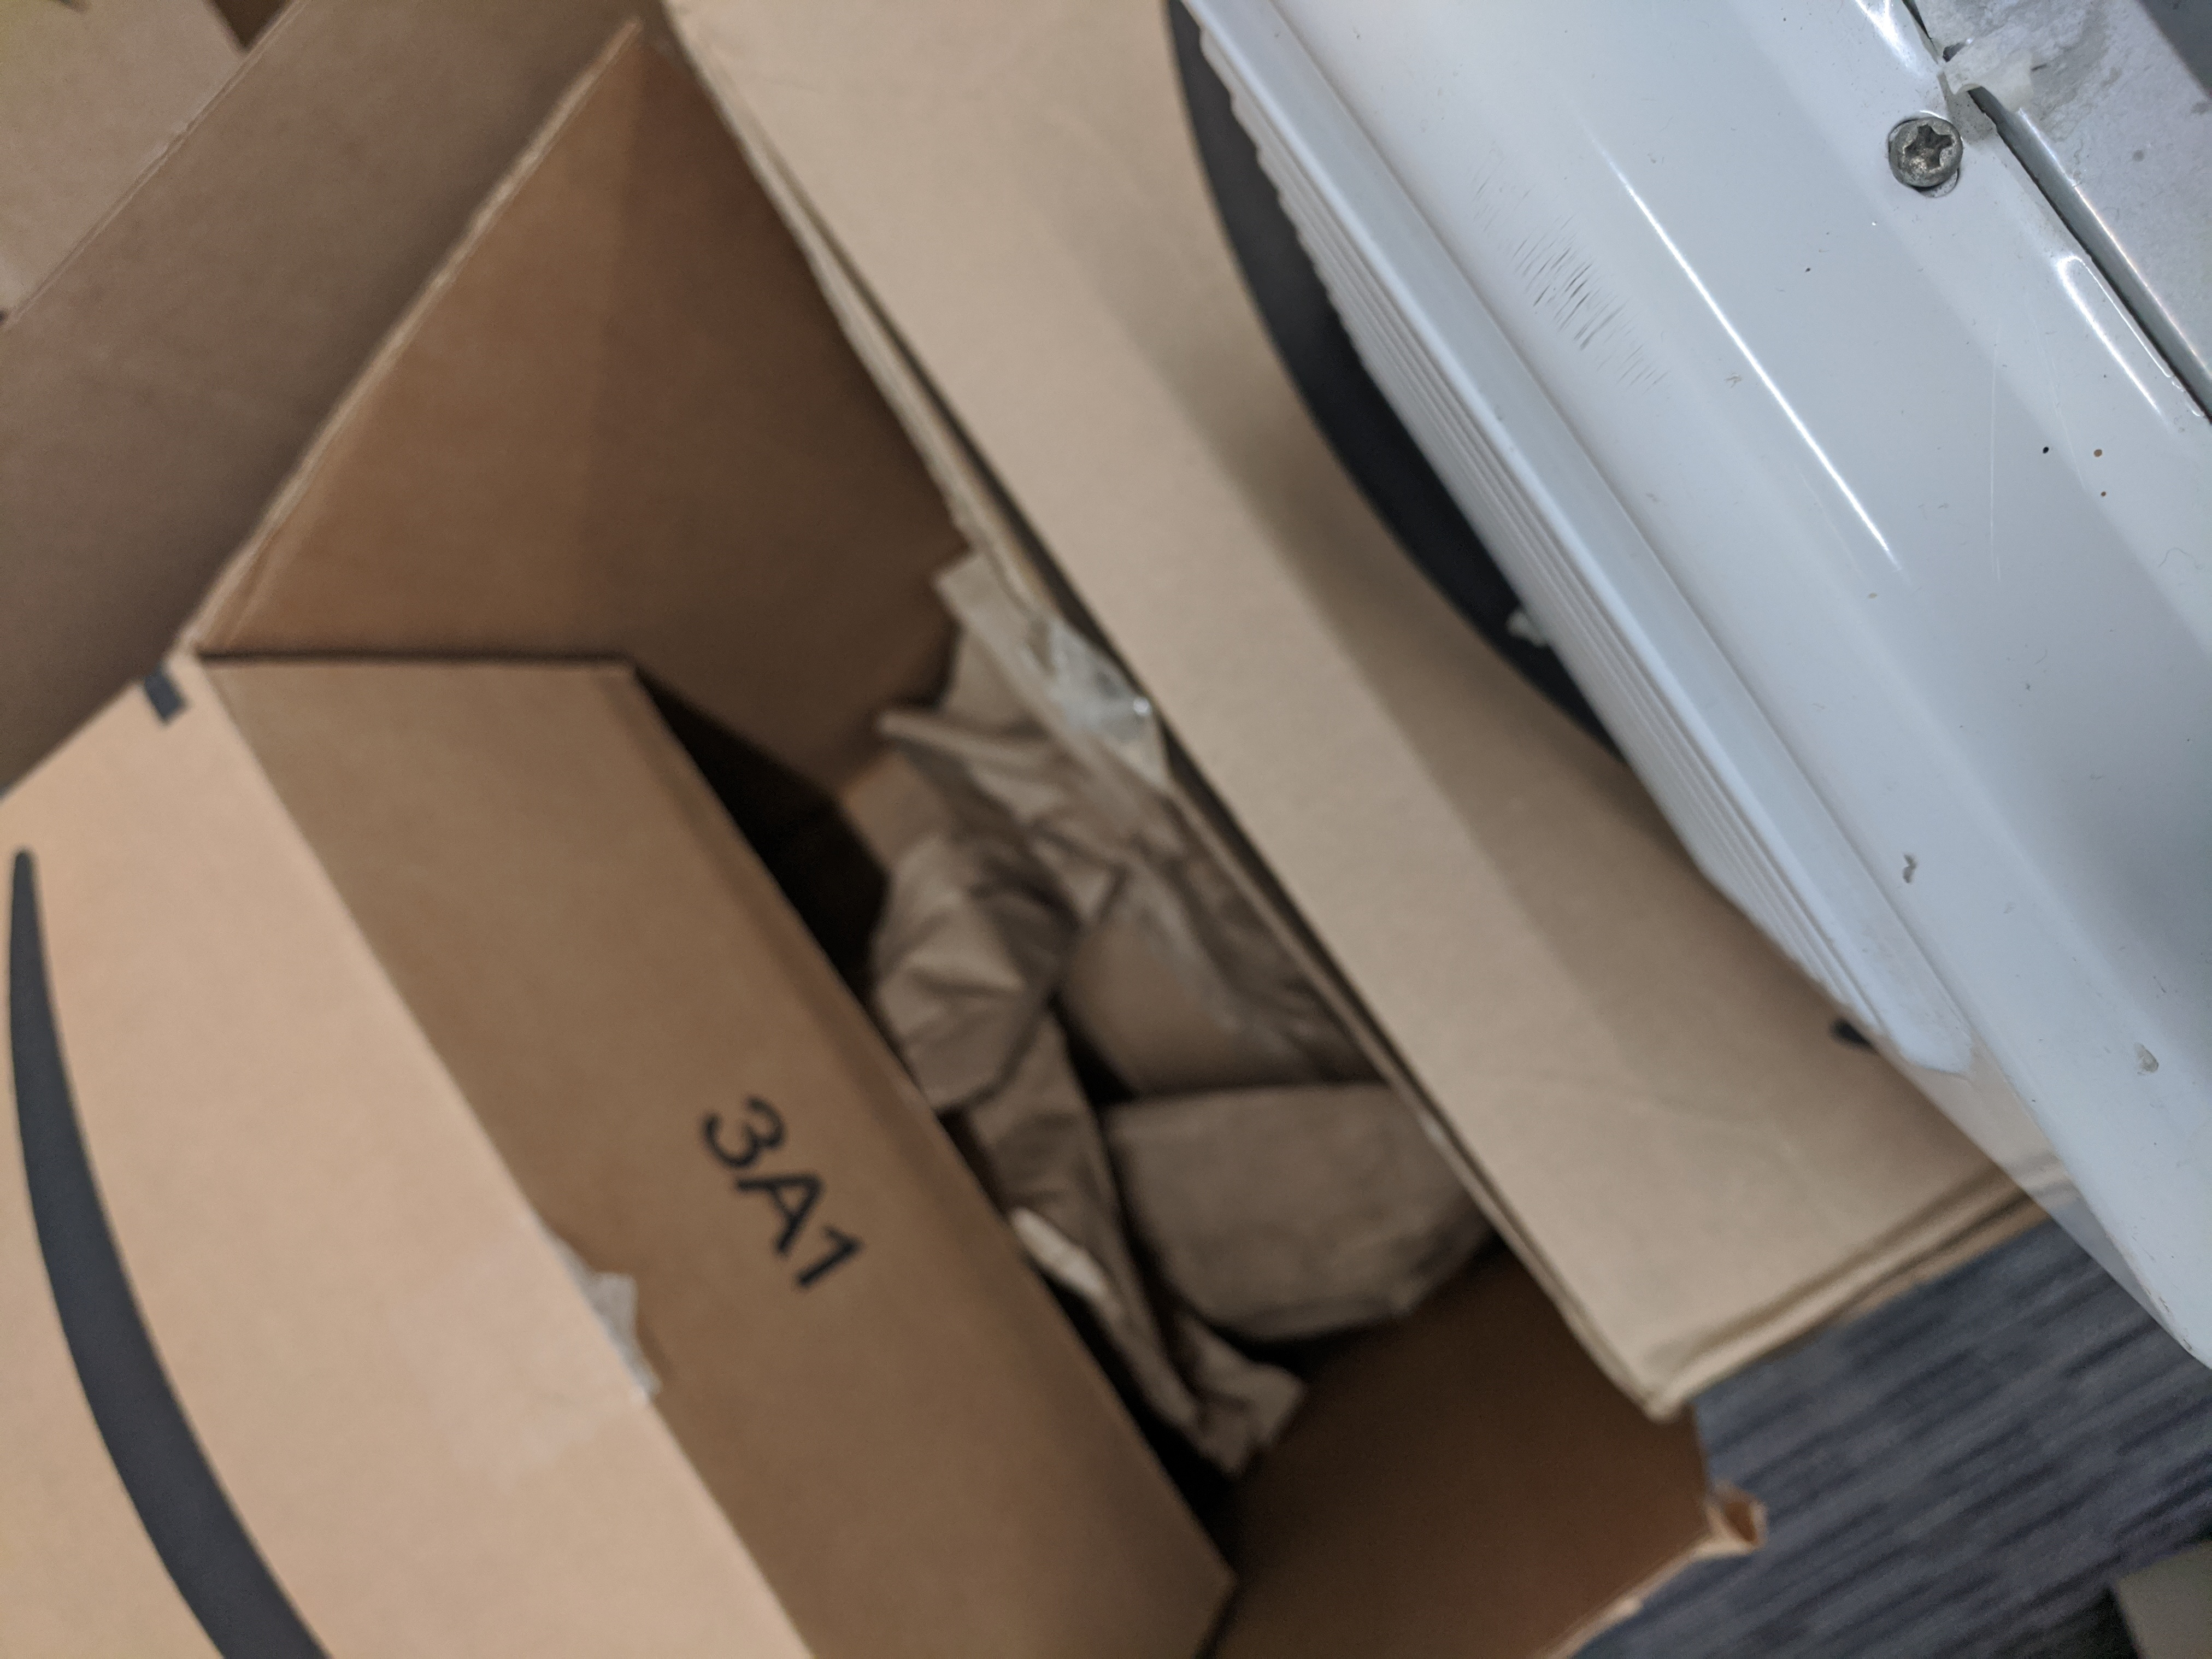cross_recessed_screw: (1881, 103, 1975, 199)
